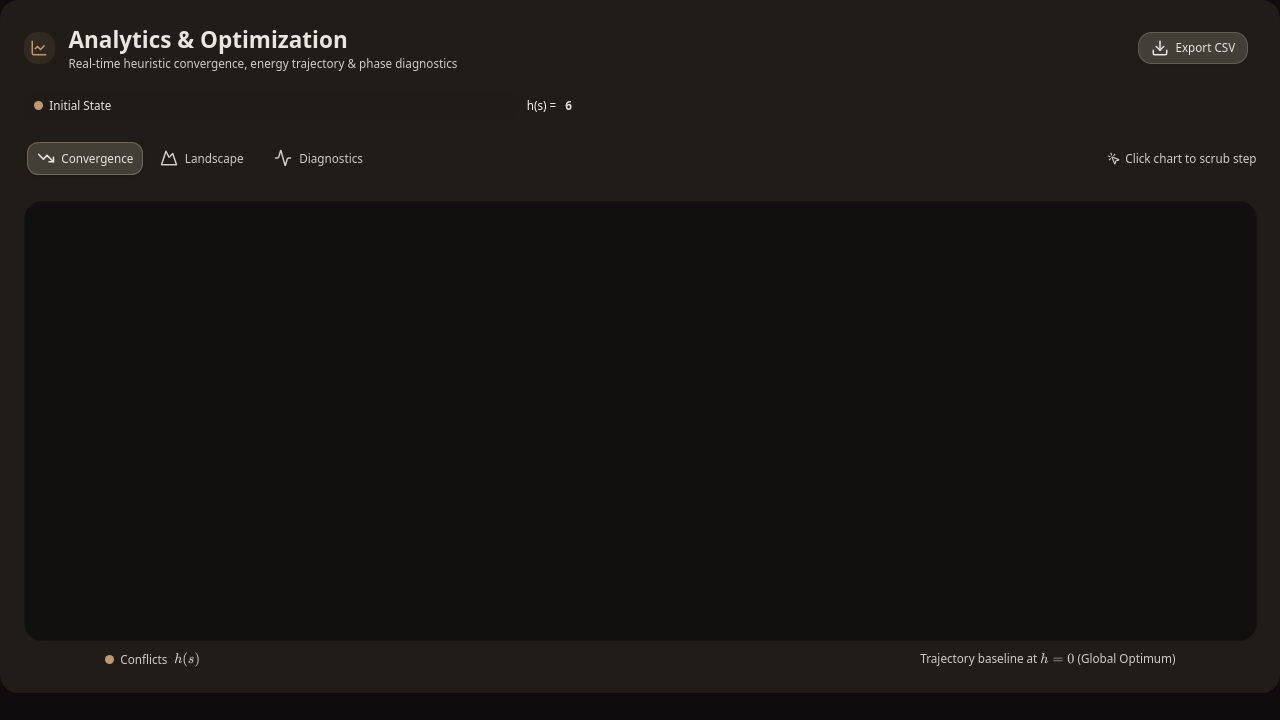
Test case: AnalyticsPanel Component › allows switching to Diagnostics tab and displays run summary metrics
Click the tab "Diagnostics".
click(319, 158)  # box [260,142,377,175]
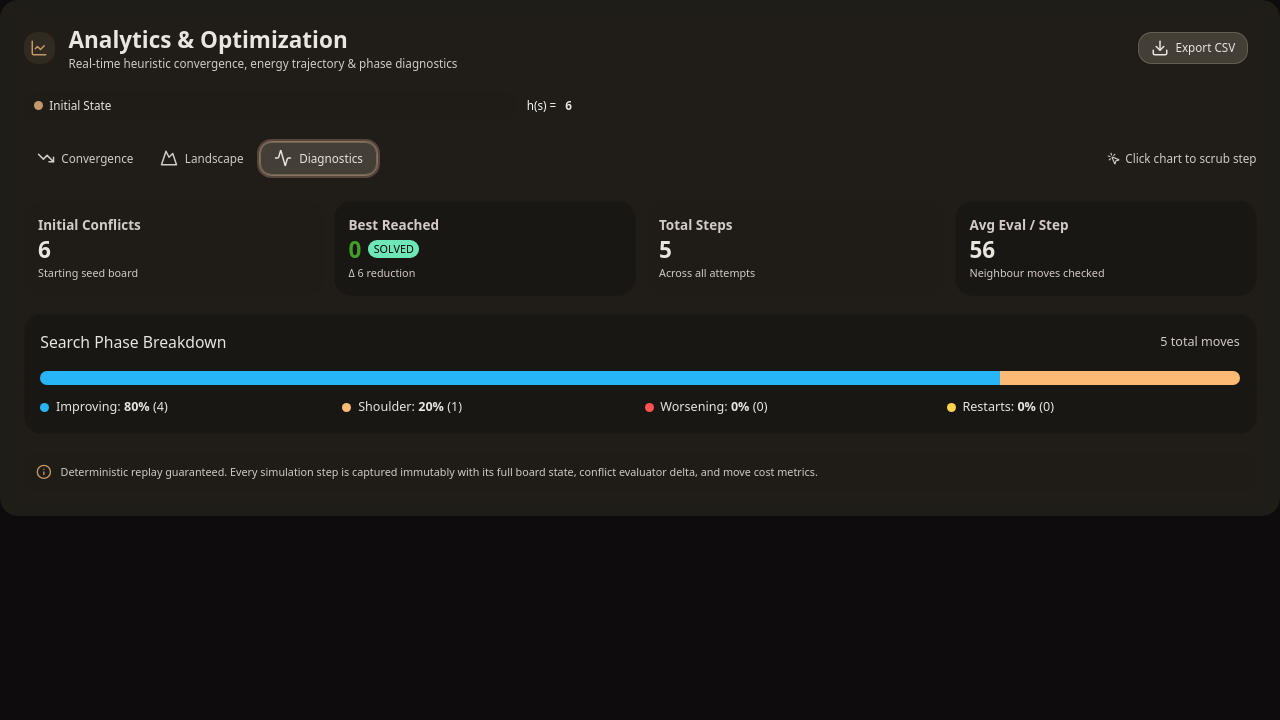
Expected: the text "Initial Conflicts" is shown, [38,216,141,234]
Expected: the text "Best Reached" is shown, [348,216,439,234]
Expected: the text "Search Phase Breakdown" is shown, [40,330,226,353]
